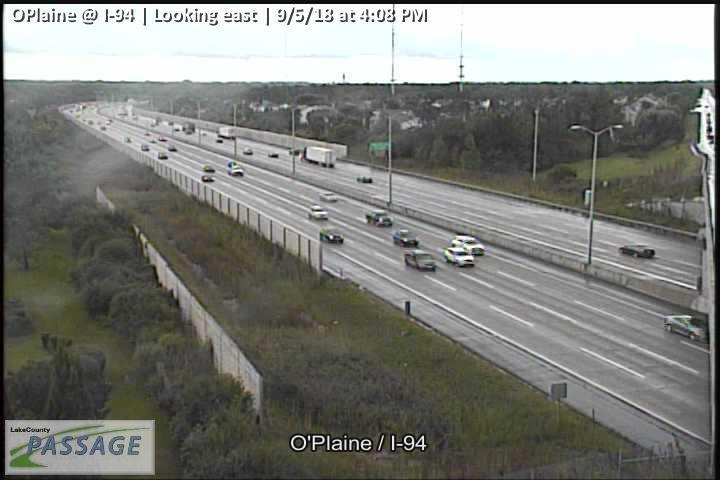SUV: (452, 234, 485, 256), (444, 247, 474, 268), (405, 250, 436, 269), (620, 243, 655, 259), (393, 228, 419, 247), (320, 228, 343, 243), (308, 205, 327, 220)
Sedan: (665, 314, 707, 342), (319, 191, 336, 202), (357, 176, 372, 183), (242, 147, 252, 154), (268, 151, 278, 158), (203, 166, 214, 172), (159, 152, 168, 159), (203, 174, 213, 180), (168, 145, 177, 151), (216, 137, 222, 141)
Truck: (302, 145, 336, 167), (365, 209, 392, 227), (217, 125, 236, 138)
